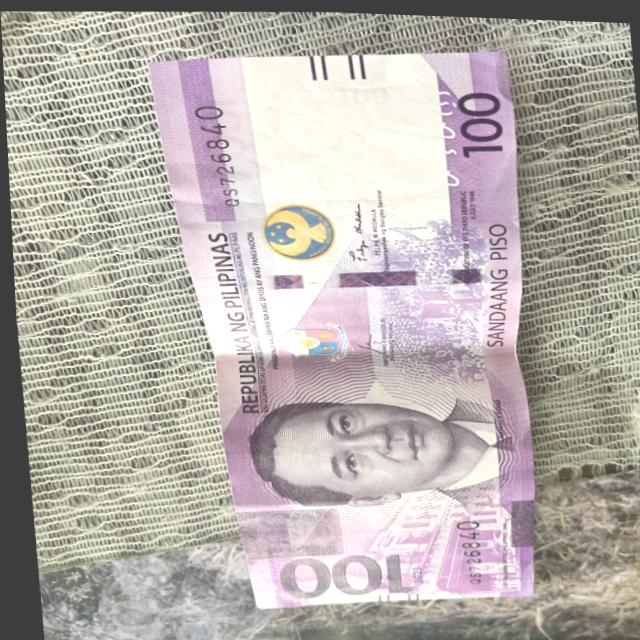concealed_value: (233, 502, 343, 557)
security_thread: (228, 256, 502, 299)
see_through_mark: (415, 81, 462, 188)
value: (267, 543, 415, 600)
value_watermark: (330, 78, 397, 112)
watermark: (234, 75, 439, 211)
